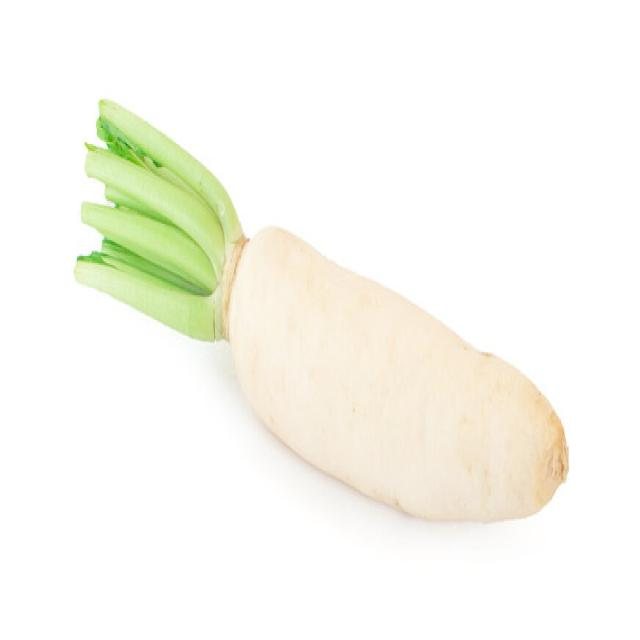Radish: (73, 94, 569, 524)
